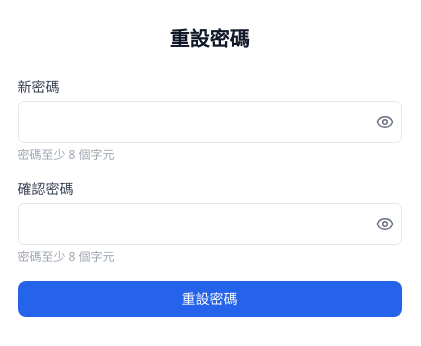
Test: ResetPasswordPage › 表單驗證 › 密碼少於 8 字元顯示驗證錯誤
The image size is (421, 346).
Type "1234567" into the password field labelled "新密碼" at (210, 122), box left=18, top=101, right=402, bottom=143
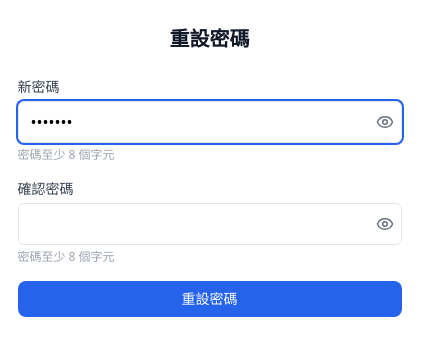
Type "1234567" into the password field labelled "確認密碼" at (210, 224), box left=18, top=203, right=402, bottom=245
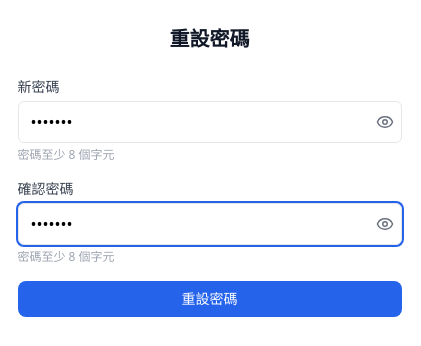
Click the button "重設密碼" at (210, 299), box left=18, top=281, right=402, bottom=317
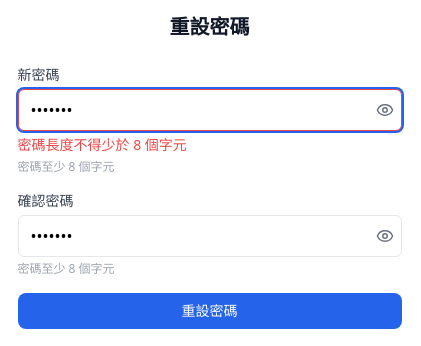
Now the text "密碼長度不得少於 8 個字元" is shown, box left=18, top=135, right=187, bottom=154
